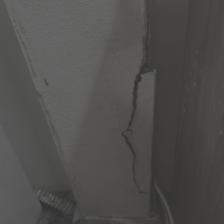High: (107, 1, 172, 221)
